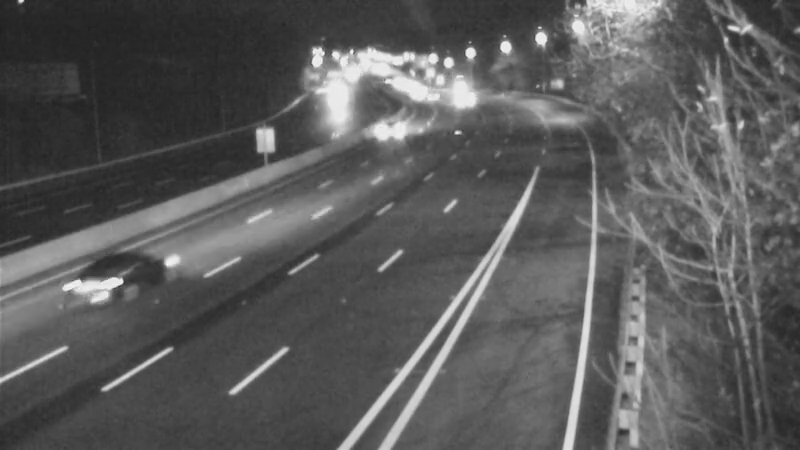vehicle: (66, 243, 146, 323), (442, 63, 492, 113), (394, 71, 444, 121), (405, 70, 455, 120), (364, 103, 414, 153), (313, 68, 363, 118)
